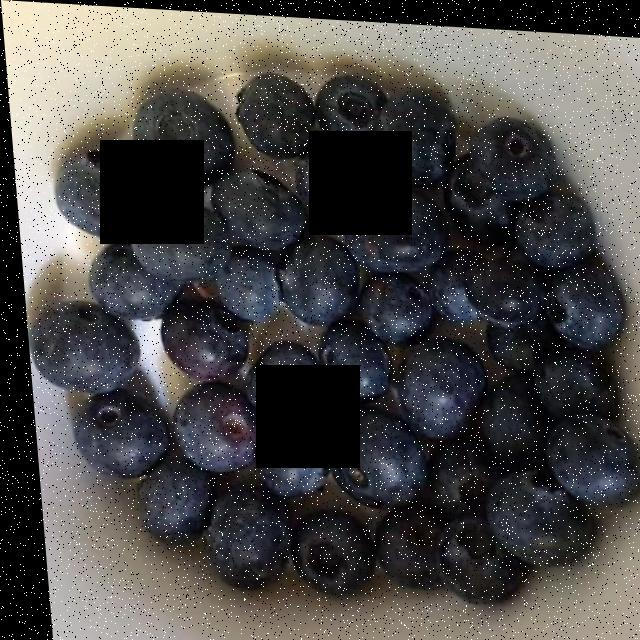blueberries: (29, 70, 627, 594)
